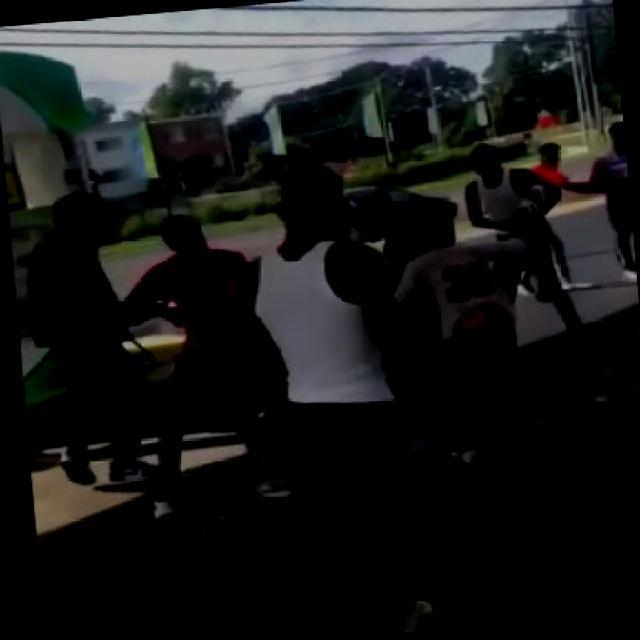fight: (388, 205, 597, 438)
